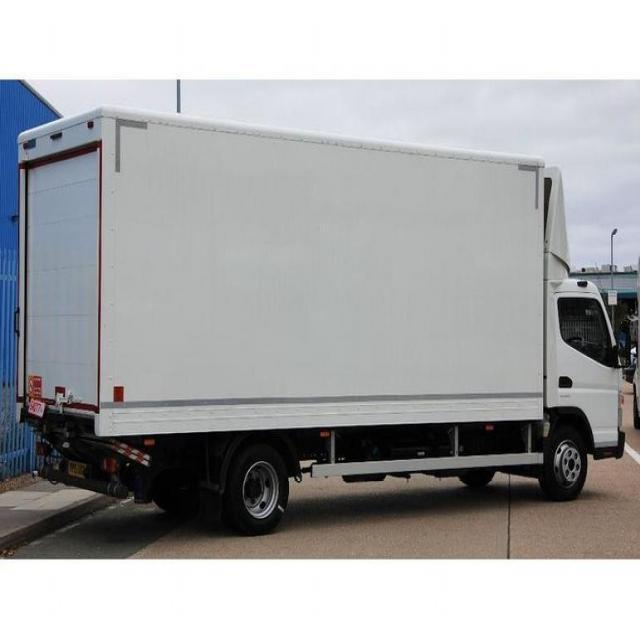truck: (14, 105, 625, 527)
